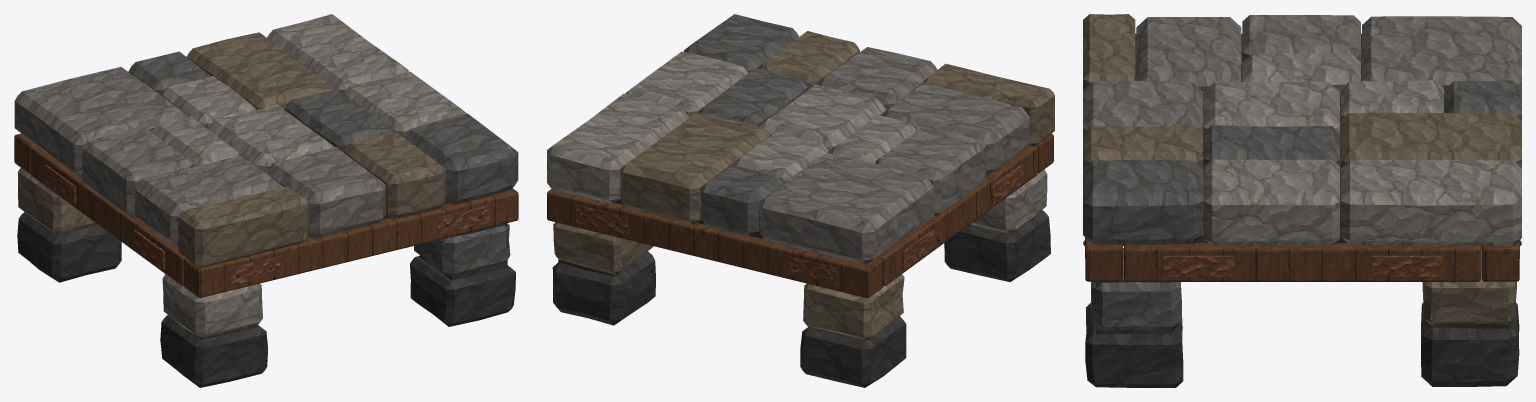
The model's file is foundation__cut_stone.glb.
The picture shows the model from 3 angles, left to right: view 1: azimuth 30°, elevation 25°; view 2: azimuth 150°, elevation 25°; view 3: azimuth 270°, elevation 25°; orthographic projection. The views are drawn at different scales.
Parts seen in each view (by area): view 1: model; view 2: model; view 3: model.
Boxes of the visible parts, <box> form: model: <box>14,14,518,387</box>; model: <box>547,14,1054,387</box>; model: <box>1083,14,1521,387</box>.
Size of the model in its own units: 1.99 by 0.9803 by 1.98.
9 materials, 9 textured.
